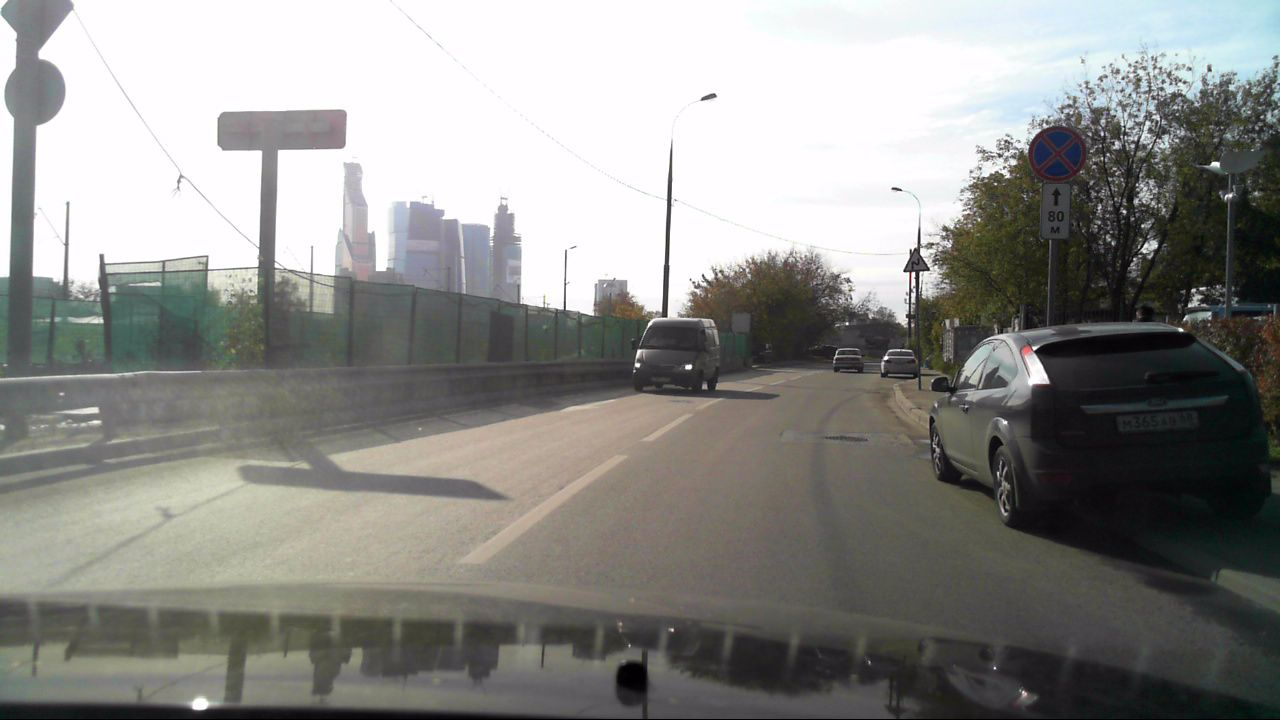No Parking: (1028, 124, 1089, 183)
